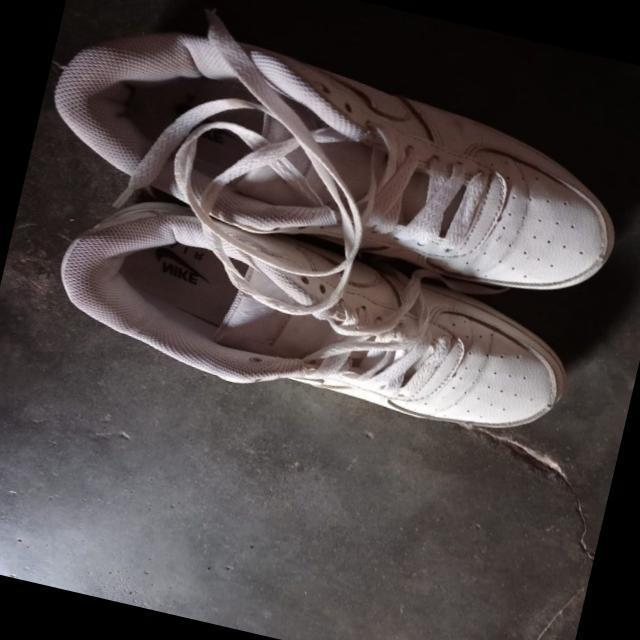nike fake air force: (34, 0, 640, 317), (42, 182, 602, 460)
